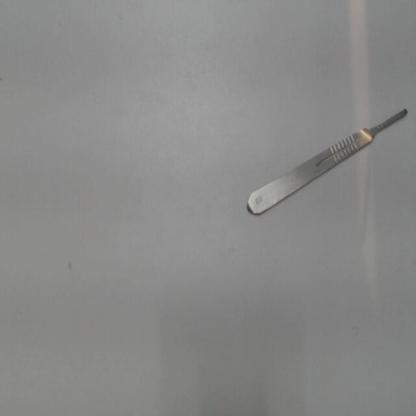No.4 BP Handle: (233, 96, 412, 232)
